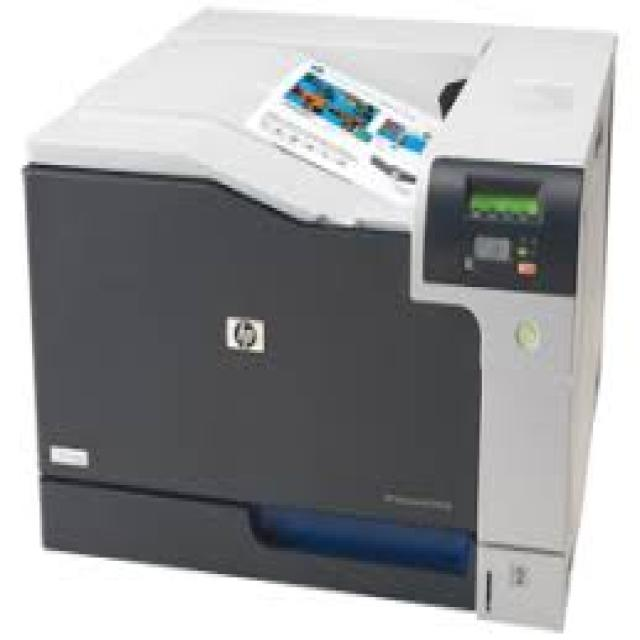printer: (20, 3, 618, 630)
